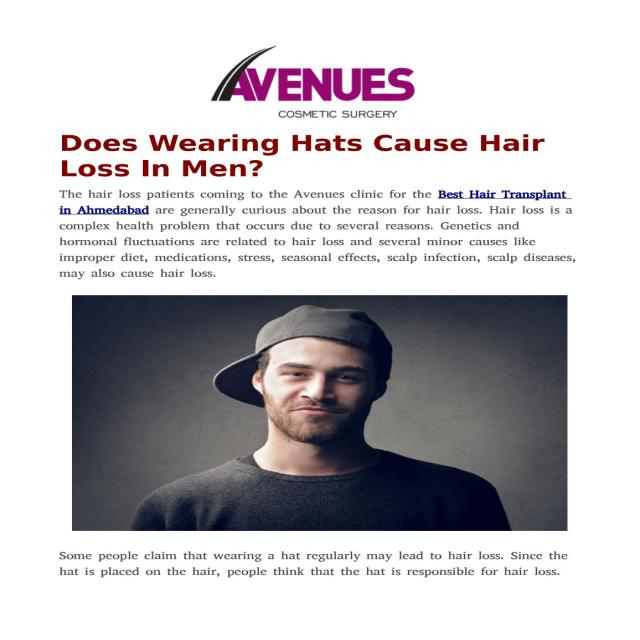cap: (212, 309, 391, 445)
